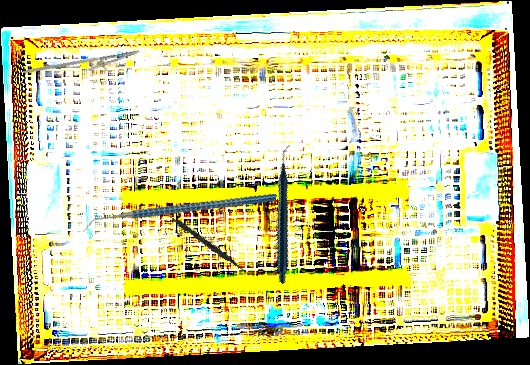Chopper: (82, 156, 278, 271)
Handpiece: (219, 144, 353, 285)
Needle Holder: (22, 36, 143, 96)
Spatula Surgical: (152, 203, 253, 277)
